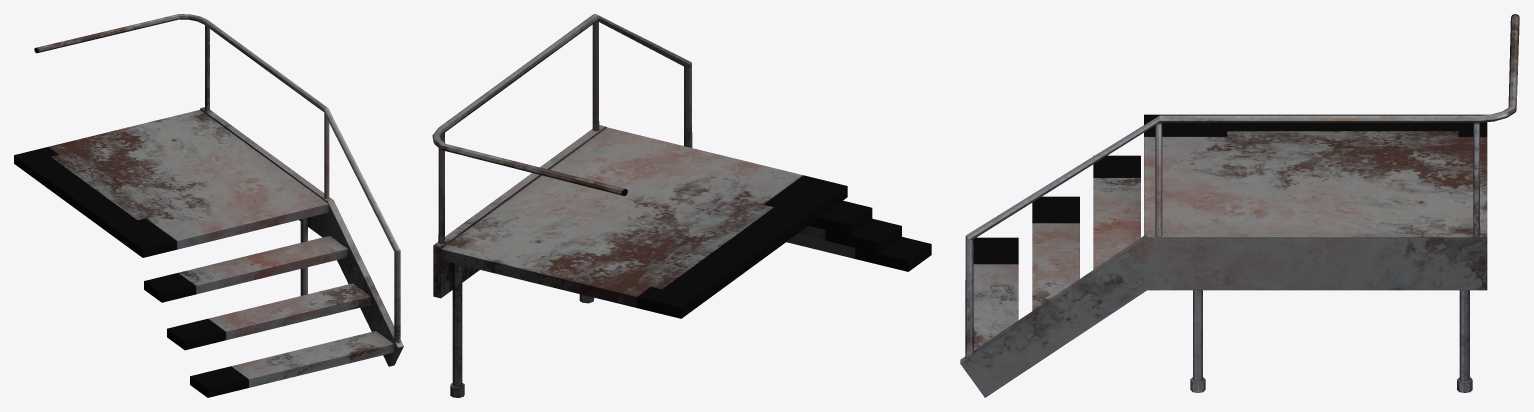
File: Steps.obj
3 renders of one model, left to right at view 1: azimuth 30°, elevation 25°; view 2: azimuth 150°, elevation 25°; view 3: azimuth 270°, elevation 25°, orthographic. The views are drawn at different scales.
Visible parts, largest first — view 1: Steps; view 2: Steps; view 3: Steps.
Boxes of the visible parts, x1,y1,x2,y2 form: Steps: (14,14,403,397); Steps: (432,14,931,397); Steps: (960,14,1519,397).
Bounding box in the file's own units: 0.6525 × 0.6831 × 1.24.
